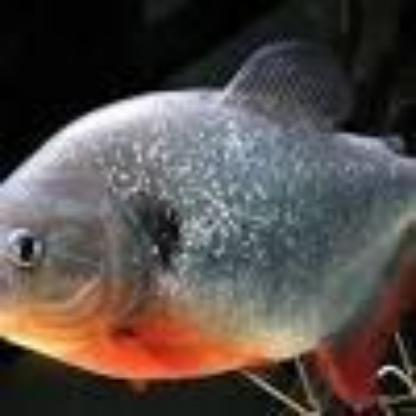ikan-pacu: (0, 46, 416, 385)
